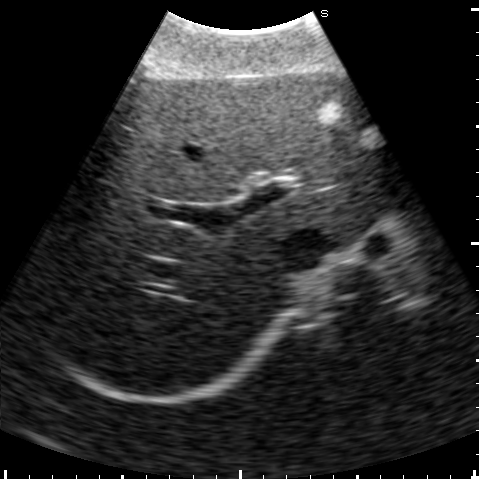IVC: (287, 230, 330, 265)
S3: (267, 75, 400, 190)
S4: (121, 72, 335, 201)
Tumor: (314, 101, 340, 125), (360, 128, 382, 148)
